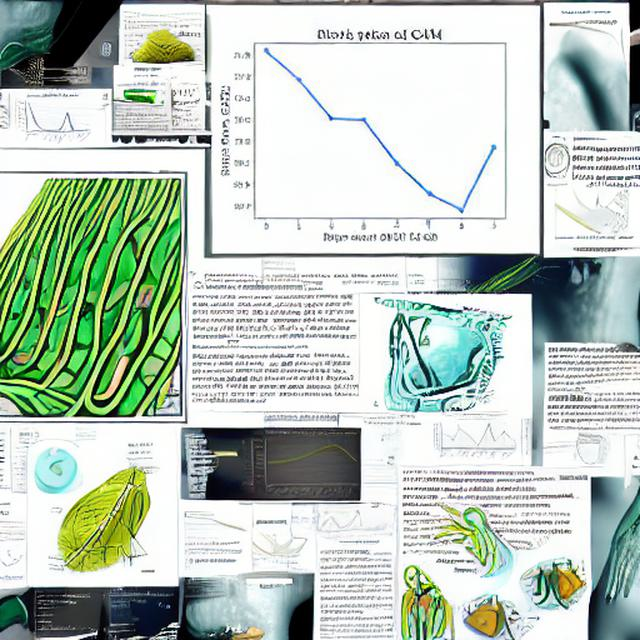Graph: (214, 8, 538, 251), (249, 430, 361, 501), (431, 412, 518, 464), (14, 92, 91, 146), (309, 504, 367, 538)
